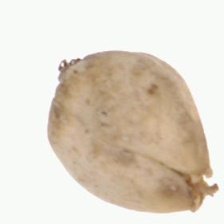L1: (51, 51, 92, 105), (178, 167, 219, 212)
L2: (46, 49, 219, 213)
